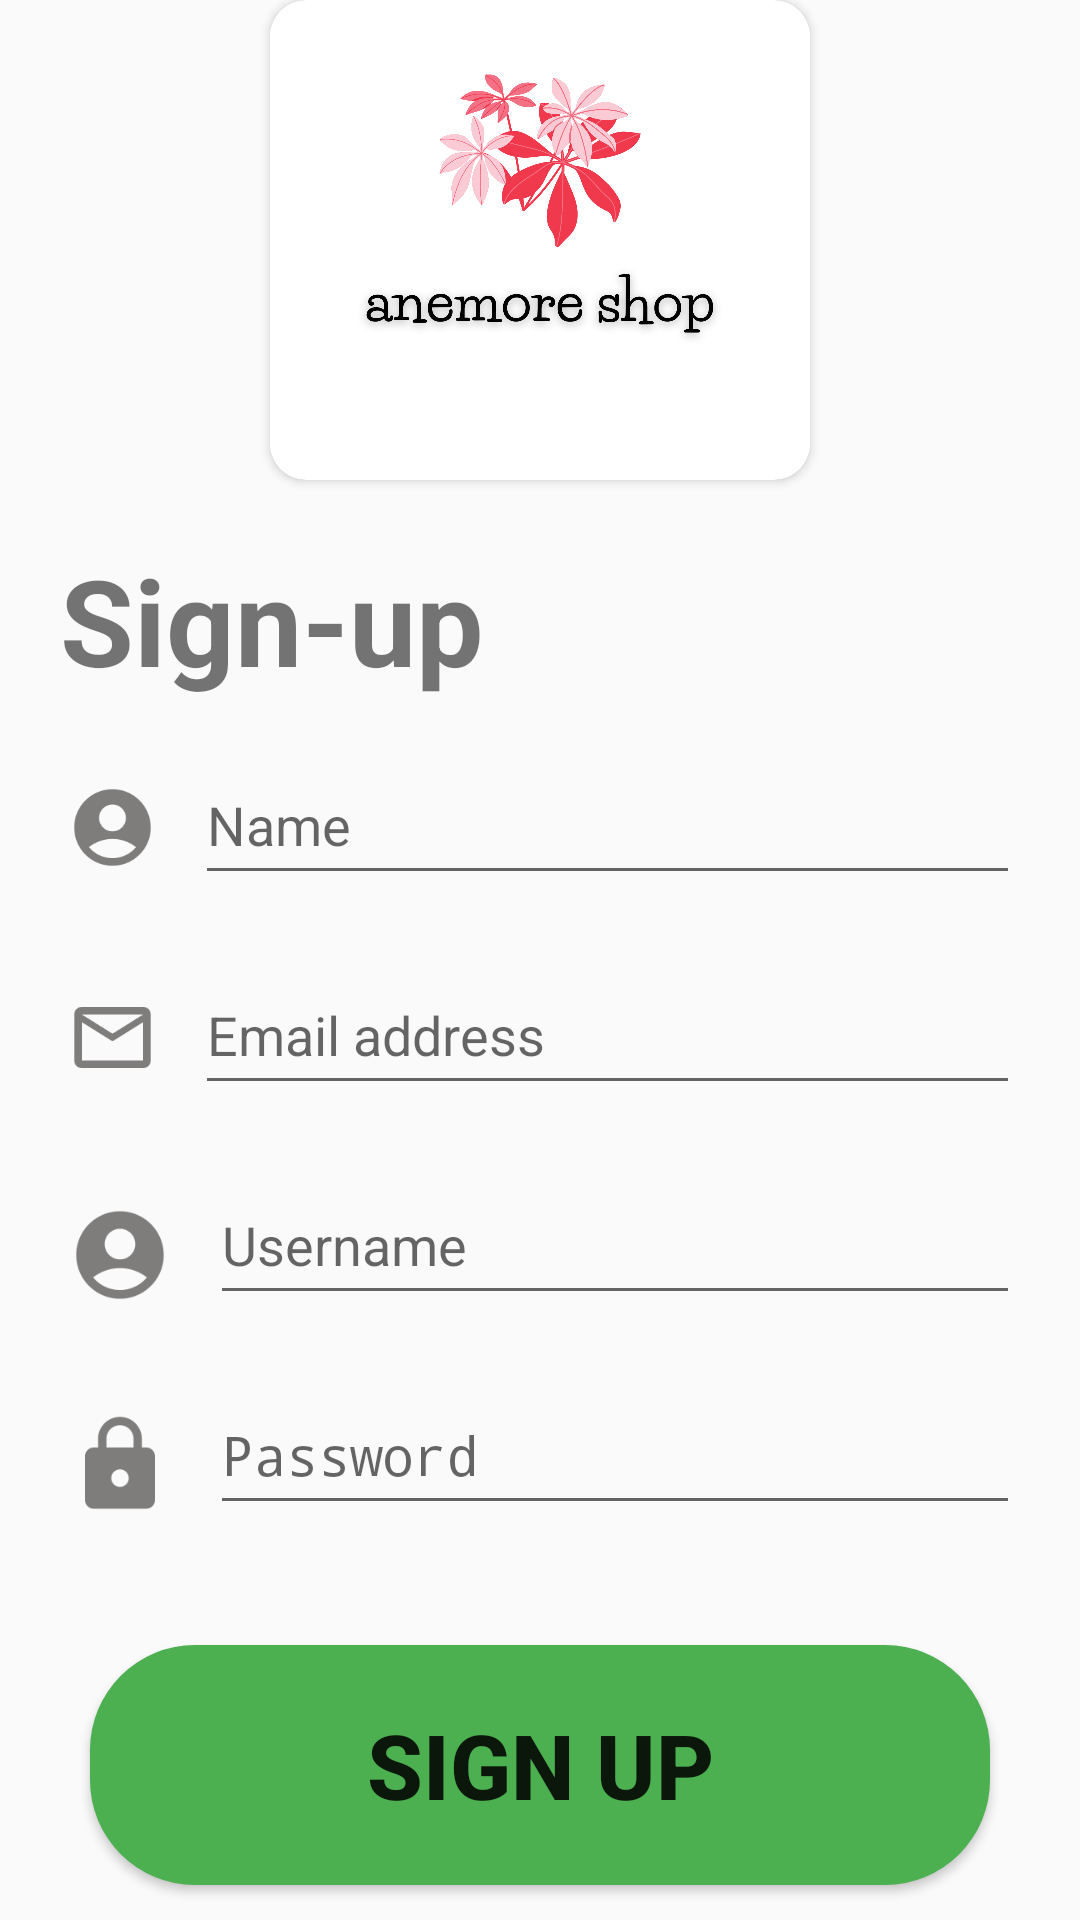

Named icons in this screenshot (1080w x 1920h) and their bounding boxes, (x1, y1, x2, y2):
lock: (85, 1416, 155, 1509)
